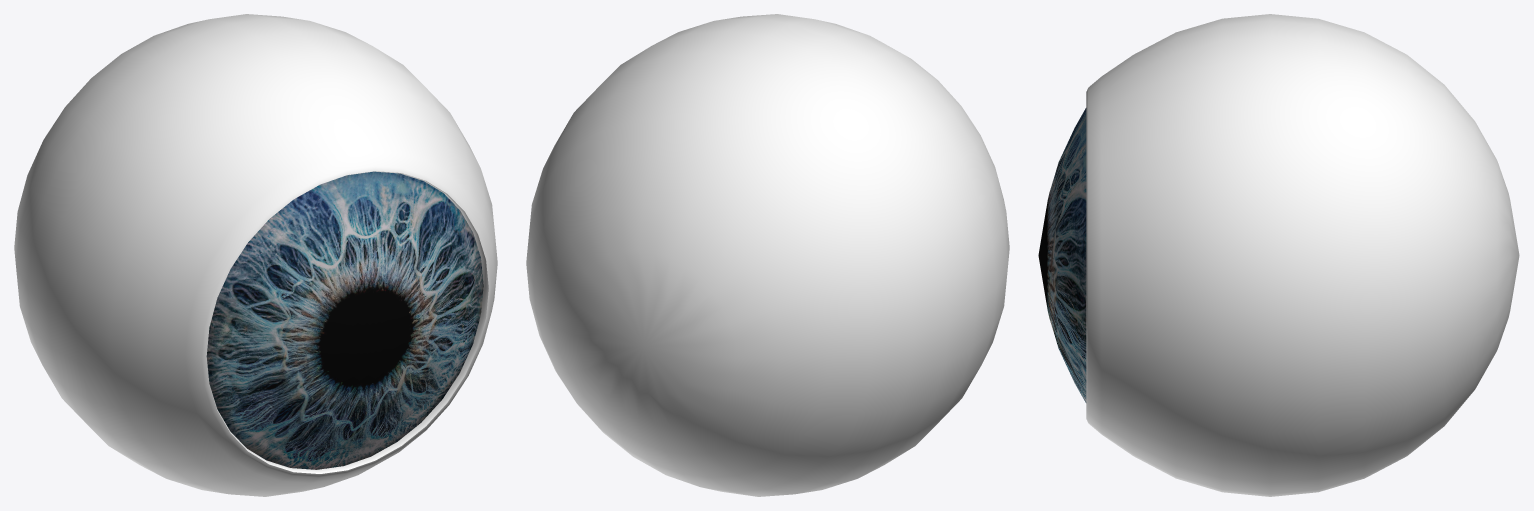
The model's file is eye.glb.
The picture shows the model from 3 angles, left to right: view 1: azimuth 30°, elevation 25°; view 2: azimuth 150°, elevation 25°; view 3: azimuth 270°, elevation 25°; orthographic projection.
Parts seen in each view (by area): view 1: Object_2; view 2: Object_2; view 3: Object_2.
Part boxes in pixels (x1,y1,x2,y2): Object_2: [14, 14, 497, 496]; Object_2: [526, 14, 1009, 496]; Object_2: [1038, 14, 1519, 496].
Bounding box in the file's own units: 96.23 × 96.23 × 95.75.
1 material, 1 textured.
